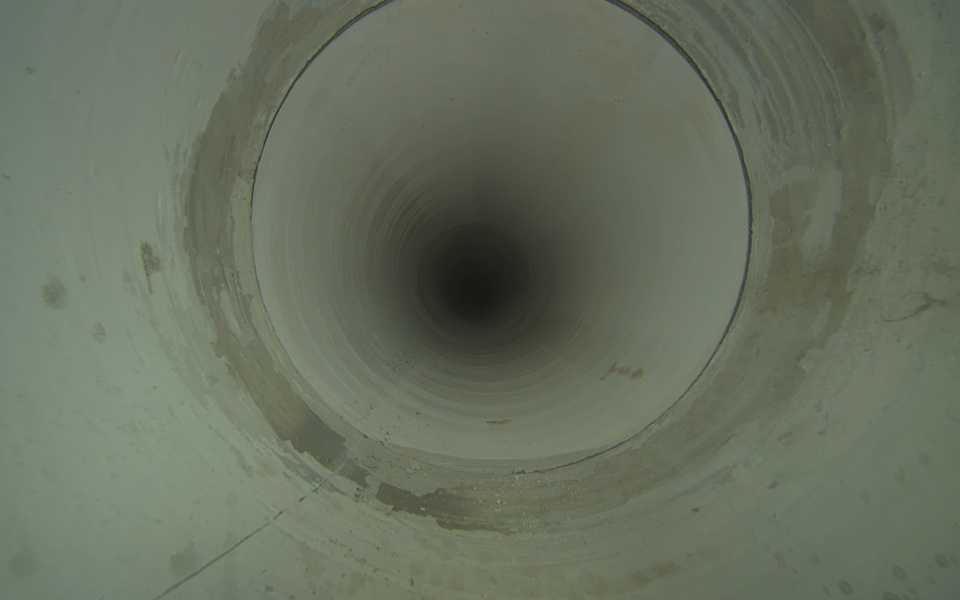circle1: (247, 0, 755, 478)
circle2: (461, 272, 491, 304)
